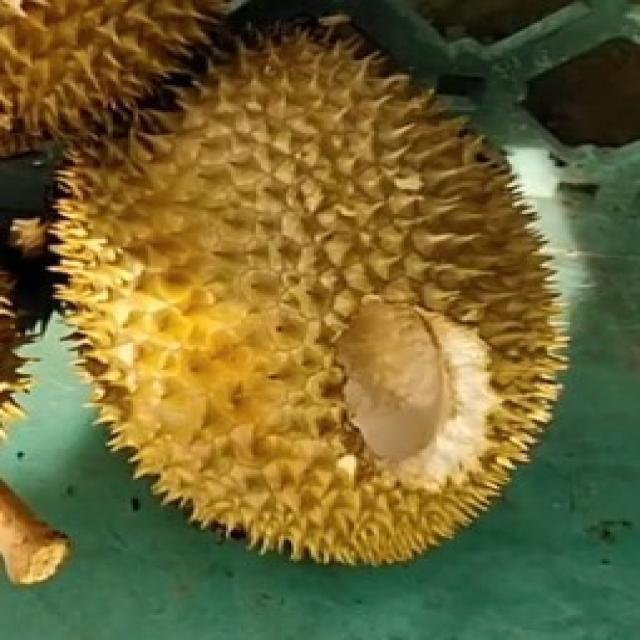defective: (45, 16, 573, 568)
